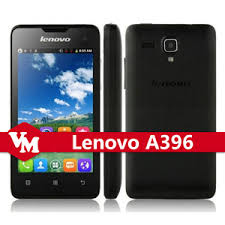lenovo: (123, 22, 218, 202), (8, 21, 103, 201)
